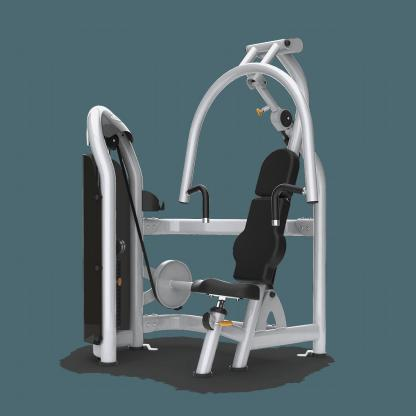Chest Press machine: (69, 33, 347, 388)
